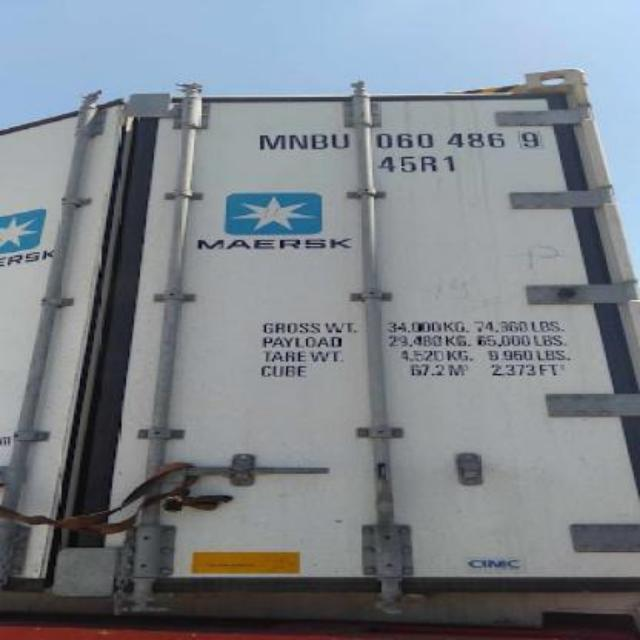0: (416, 131, 438, 147), (376, 134, 396, 150)
4: (442, 131, 466, 149)
6: (484, 132, 508, 148), (394, 132, 414, 148)
8: (466, 132, 484, 150)
9: (518, 133, 544, 149)
B: (312, 134, 330, 150)
M: (256, 134, 286, 150)
N: (288, 134, 312, 148)
U: (328, 133, 354, 151)
